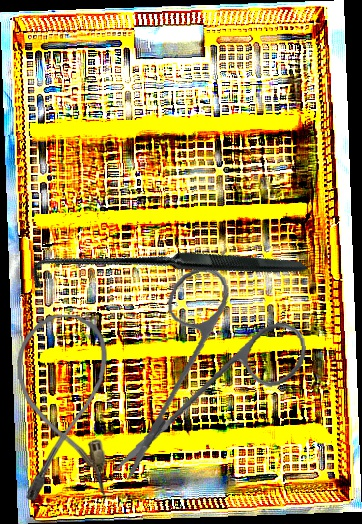Cannula: (16, 314, 110, 500)
Hook Surgical: (25, 132, 309, 413)
Iris Scissors: (90, 255, 320, 482)
